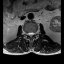CCS_normal: (29, 30, 32, 39)
LFS_normal: (34, 30, 36, 36)
LLS_normal: (32, 30, 34, 37)
RFS_normal: (25, 29, 27, 37)
RLS_normal: (27, 30, 29, 38)
